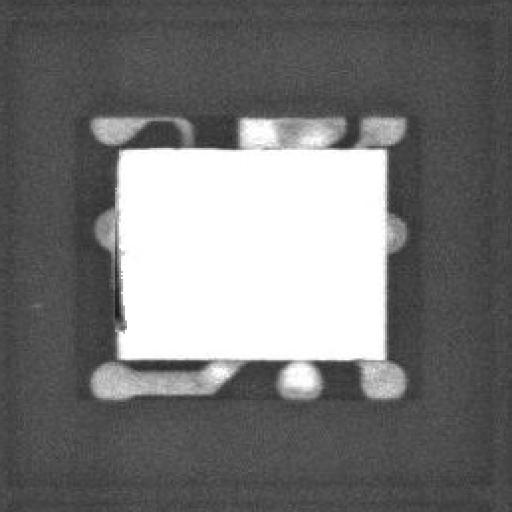DIE_BROKEN: (107, 233, 129, 336)
